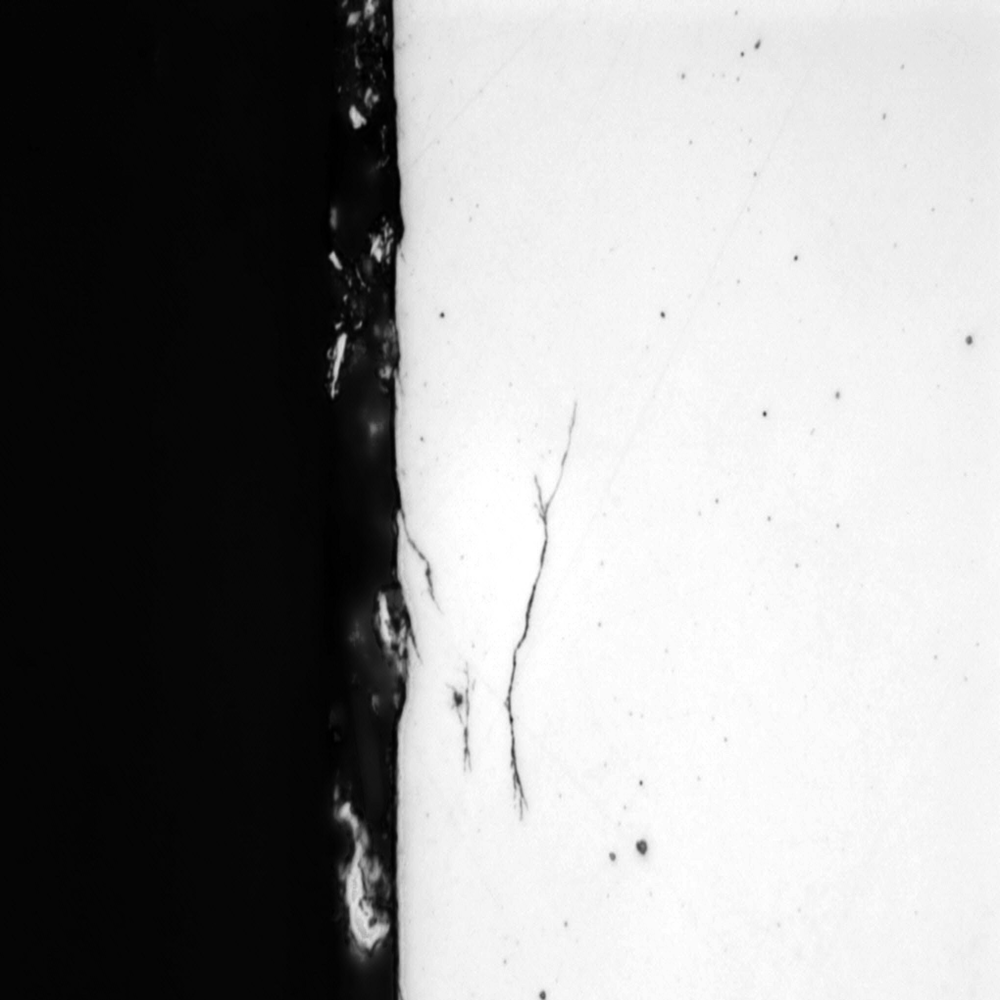crack: (497, 394, 582, 826)
